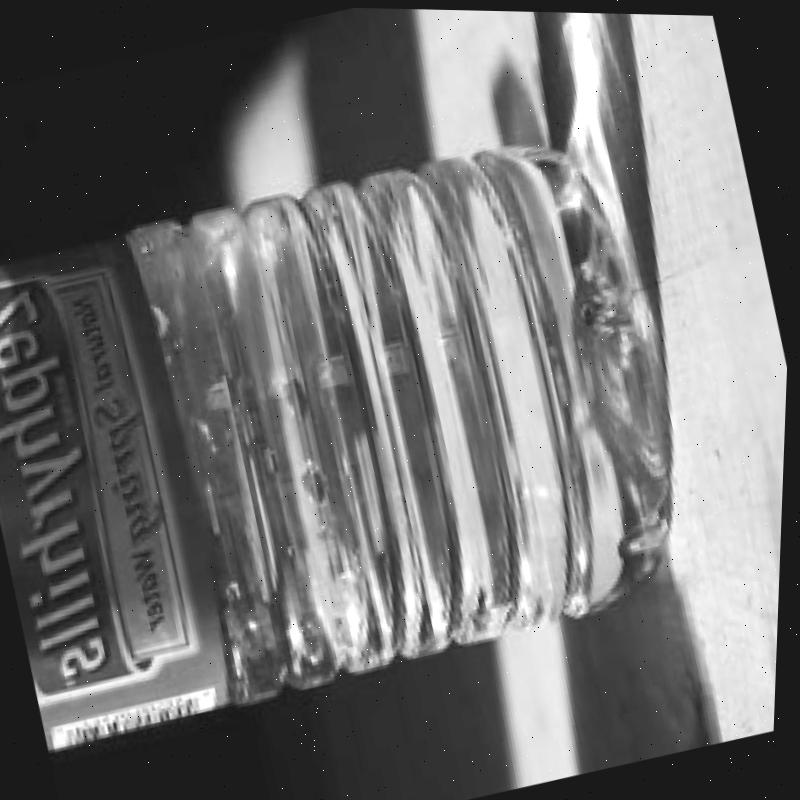botella: (0, 98, 724, 763)
